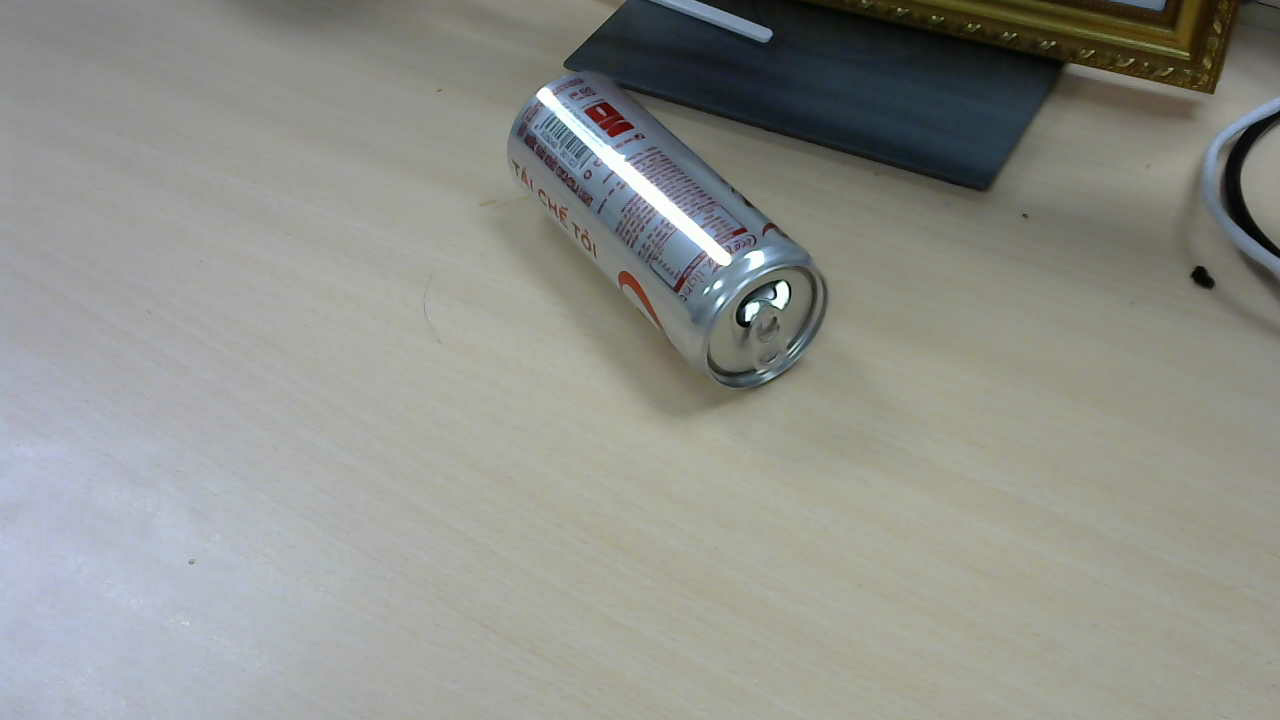Coca_Cola: (509, 72, 834, 397)
